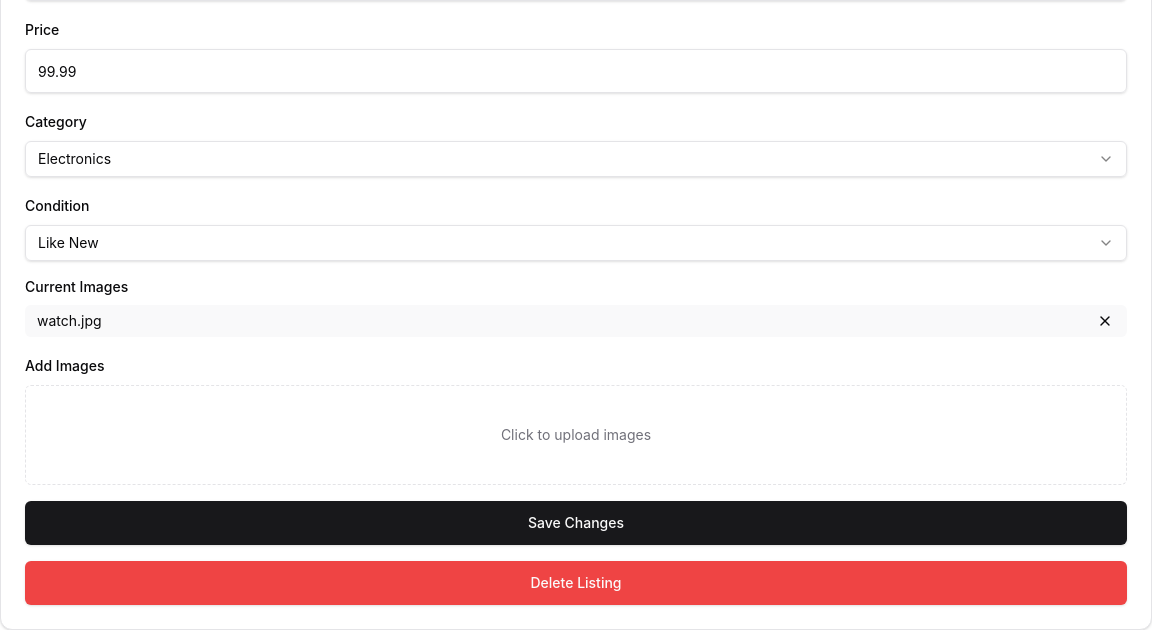
Test: CreateListingForm › edit mode › opens delete confirmation dialog
(page scrolled)
Click the button "Delete Listing" at {"x": 576, "y": 583}, box 25,561 -> 1127,605
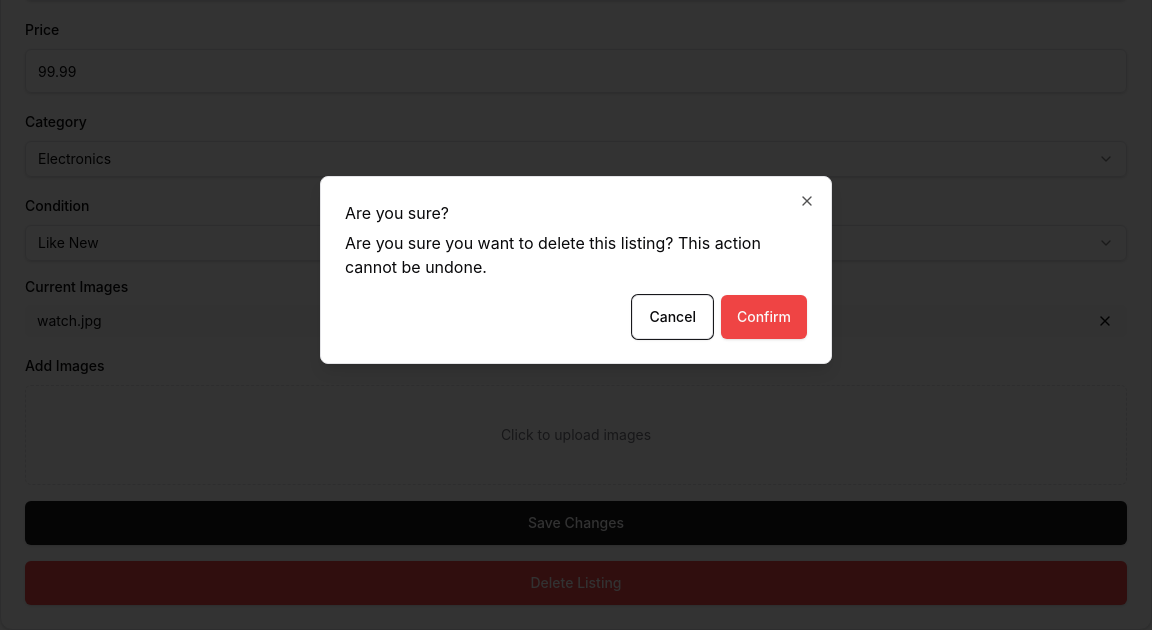
Check: the dialog is shown, box 320,176 -> 832,364
Check: the text "This action cannot be undone" is shown, box 345,233 -> 761,277
